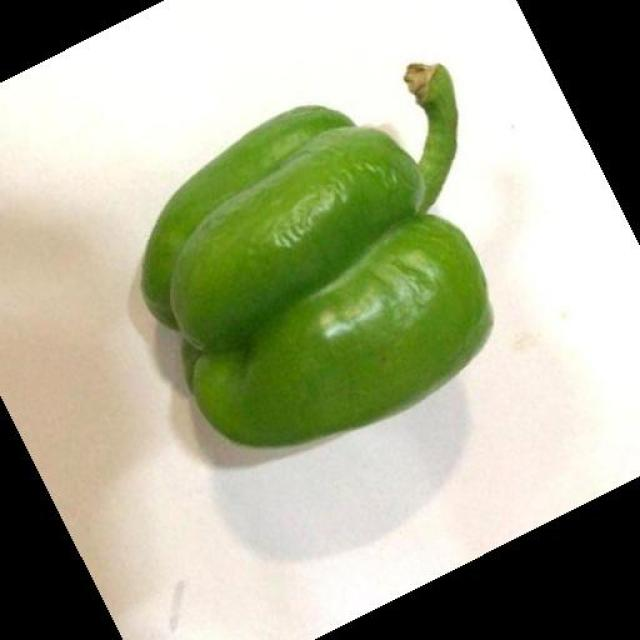Fresh_Capsicum: (118, 64, 512, 458)
